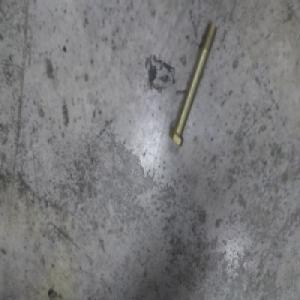Bolt: (168, 17, 217, 148)
